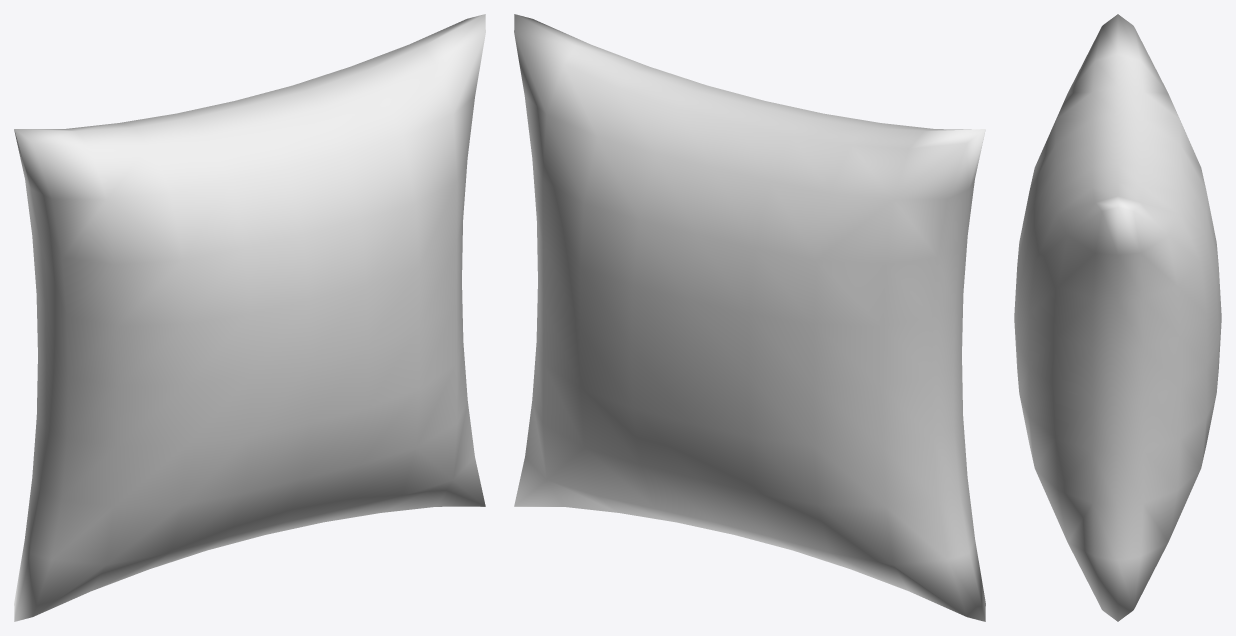
File: e7f3b4ce-014f-4c1b-aa6b-946cceec213e.glb
3 views of the same model, side by side, from view 1: azimuth 30°, elevation 25°; view 2: azimuth 150°, elevation 25°; view 3: azimuth 270°, elevation 25° (orthographic). The views are drawn at different scales.
Parts seen in each view (by area): view 1: StandardPillowWhite; view 2: StandardPillowWhite; view 3: StandardPillowWhite.
Boxes of the visible parts, x1,y1,x2,y2 form: StandardPillowWhite: (14, 14, 485, 621); StandardPillowWhite: (514, 14, 985, 621); StandardPillowWhite: (1014, 14, 1221, 621).
Size of the model in its own units: 0.6356 by 0.6356 by 0.2884.
1 material, 1 textured.
